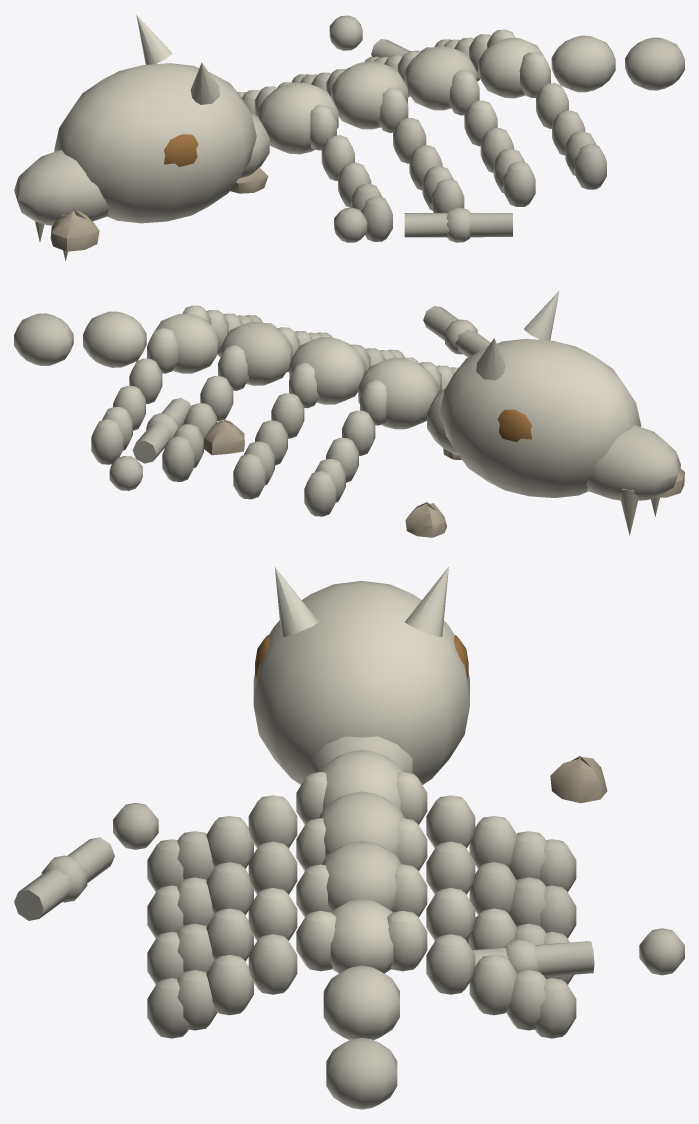
The model's file is cen_tarhut_ossada_1.glb.
3 renders of one model, top to bottom at view 1: azimuth 30°, elevation 25°; view 2: azimuth 150°, elevation 25°; view 3: azimuth 270°, elevation 25°, orthographic. The views are drawn at different scales.
Parts seen in each view (by area): view 1: ossada; view 2: ossada; view 3: ossada.
Part boxes in pixels (x1,y1,x2,y2): ossada: (14, 14, 684, 260); ossada: (14, 290, 684, 537); ossada: (14, 566, 684, 1109).
Bounding box in the file's own units: 2.98 × 0.796 × 1.96.
